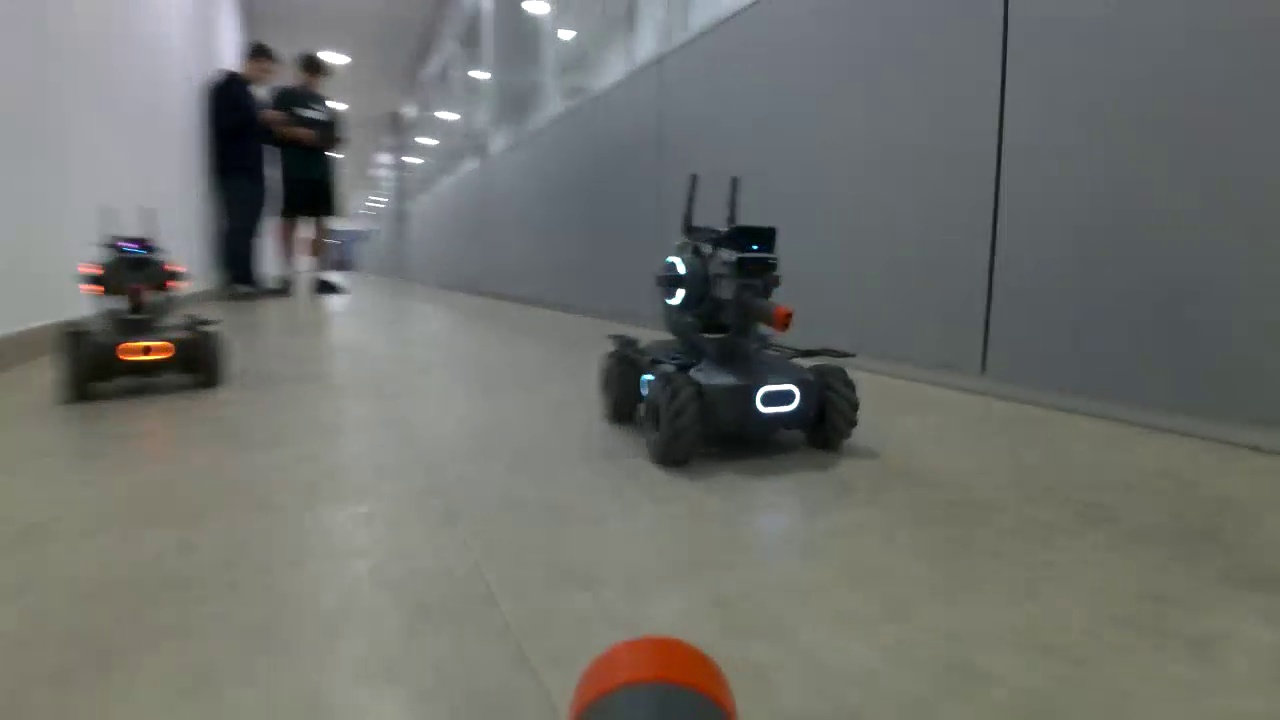robot: (601, 212, 863, 475), (54, 235, 232, 411)
